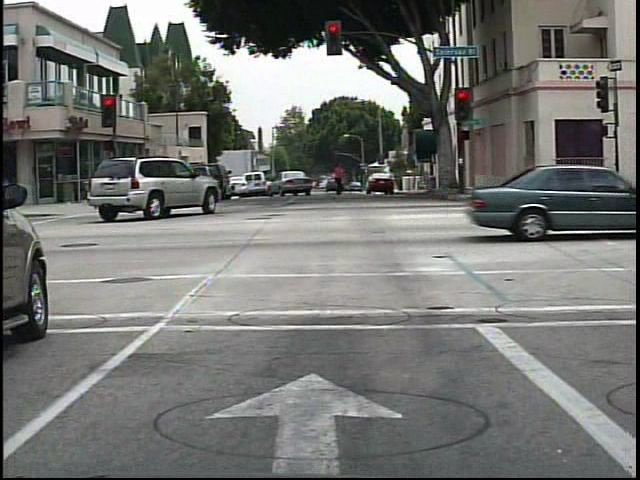person: (328, 157, 354, 206)
